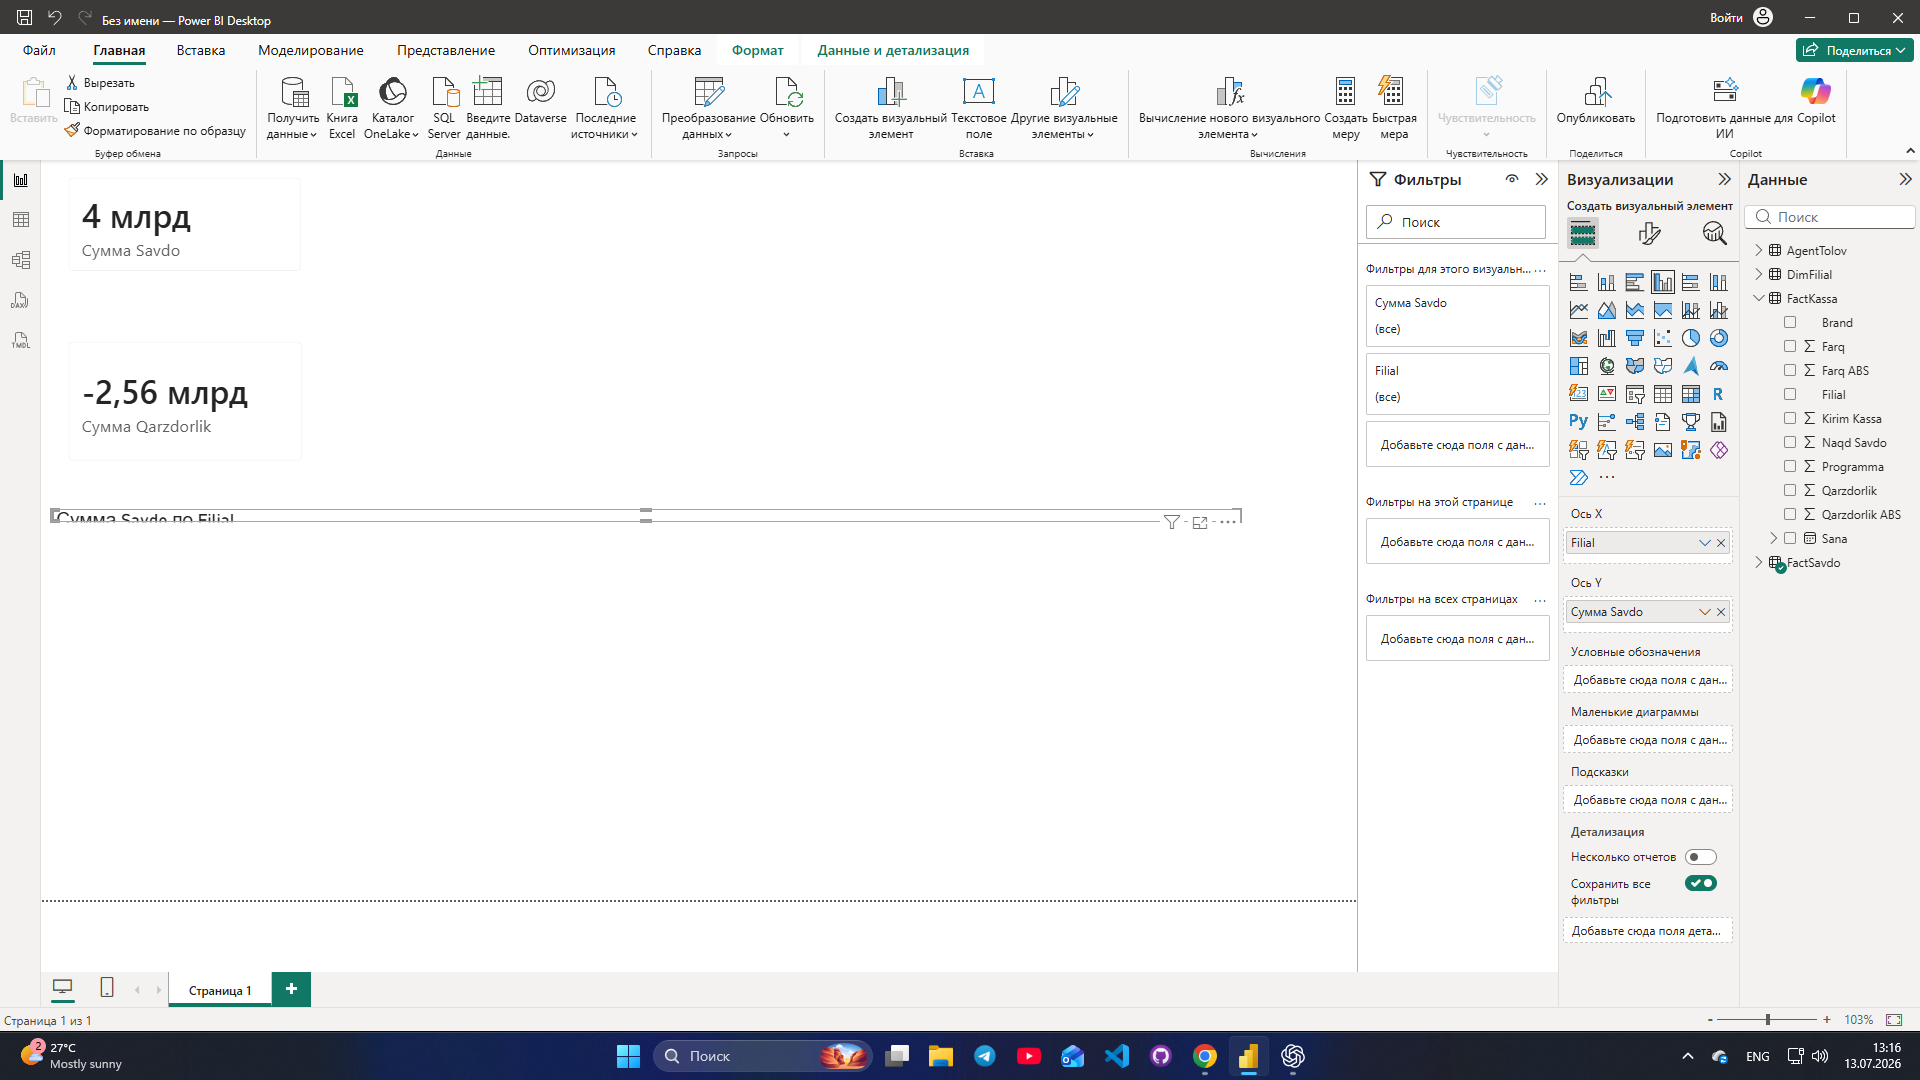

This screenshot's page, from the dashboard's own definition file:
{"tool":"powerbi","page":{"name":"Страница 1","canvas":[1280,720],"ordinal":0},"visuals":[{"type":"cardVisual","fields":{"Data":["Sum(FactSavdo.Savdo)"]},"box":[9.7,0,260.7,125.5],"z":0},{"type":"cardVisual","fields":{"Data":["Sum(FactKassa.Qarzdorlik)"]},"box":[10,159.5,261,150],"z":2},{"type":"clusteredColumnChart","fields":{"Category":["FactSavdo.Filial"],"Y":["Sum(FactSavdo.Savdo)"]},"box":[10,10,1157,150],"z":3}]}

Visuals, with their boxes on the page's 1280x720 design canvas (x1, y1, x2, y2). These are canvas units, not pixel positions in the 1920x1080 screenshot, which may show the page scaled, cropped or inside an application window:
cardVisual - Sum(FactSavdo.Savdo): {"x1": 10, "y1": 0, "x2": 270, "y2": 126}
cardVisual - Sum(FactKassa.Qarzdorlik): {"x1": 10, "y1": 160, "x2": 271, "y2": 310}
clusteredColumnChart - FactSavdo.Filial x Sum(FactSavdo.Savdo): {"x1": 10, "y1": 10, "x2": 1167, "y2": 160}
